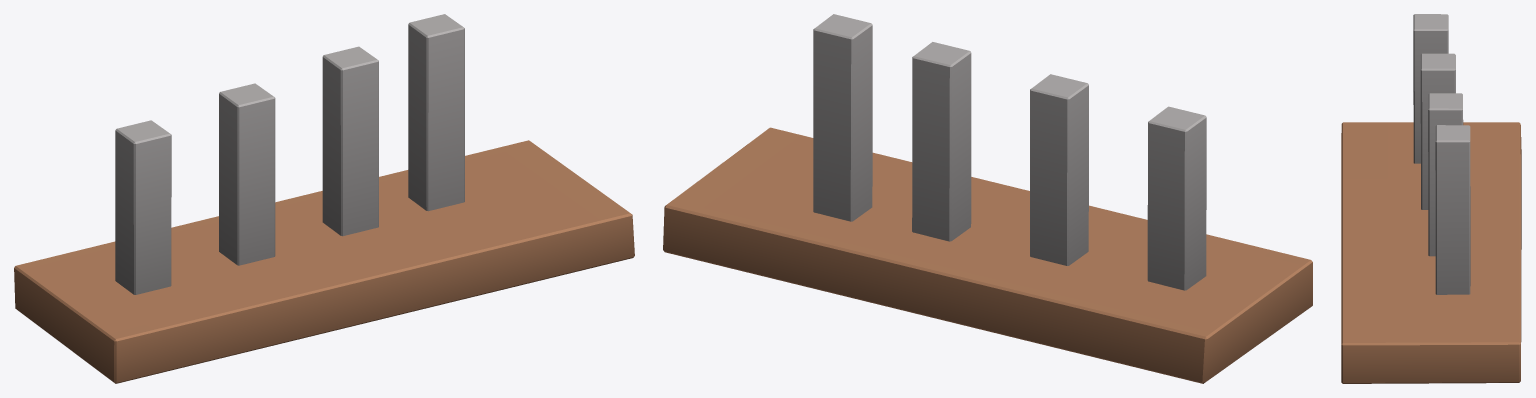
File: spikes.glb
The picture shows the model from 3 angles, left to right: view 1: azimuth 30°, elevation 25°; view 2: azimuth 150°, elevation 25°; view 3: azimuth 270°, elevation 25°; orthographic projection. The views are drawn at different scales.
Visible parts, largest first — view 1: Base, Spike3, Spike2, Spike1, Spike0; view 2: Base, Spike3, Spike2, Spike1, Spike0; view 3: Base, Spike3, Spike1, Spike0, Spike2.
Part boxes in pixels (<box>): Base: <box>14,140,634,383</box>; Spike3: <box>408,14,464,211</box>; Spike2: <box>322,46,378,236</box>; Spike1: <box>219,83,275,265</box>; Spike0: <box>115,120,171,294</box>; Base: <box>663,127,1312,383</box>; Spike3: <box>813,14,872,221</box>; Spike2: <box>912,42,971,241</box>; Spike1: <box>1030,74,1088,265</box>; Spike0: <box>1147,106,1206,290</box>; Base: <box>1341,122,1521,383</box>; Spike3: <box>1435,125,1470,294</box>; Spike1: <box>1420,53,1455,209</box>; Spike0: <box>1413,14,1448,163</box>; Spike2: <box>1428,93,1463,256</box>.
Size of the model in its own units: 1.45 by 0.5855 by 0.495.
